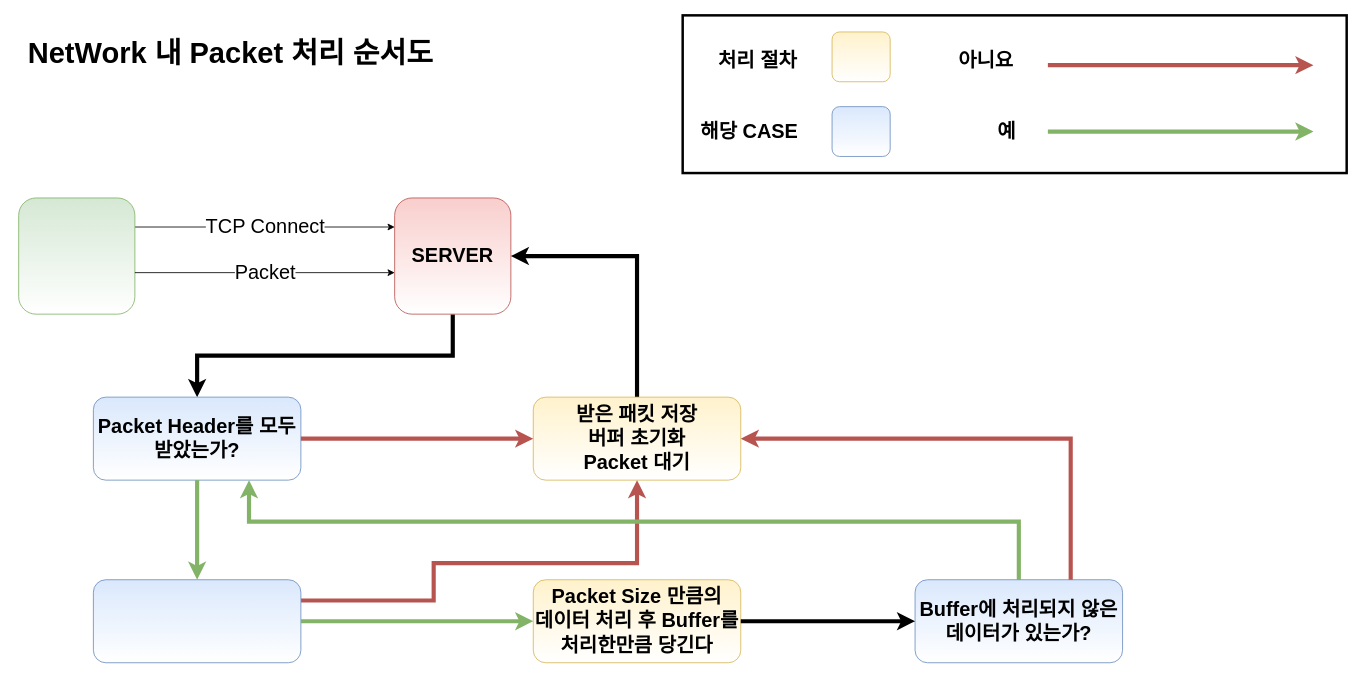
The diagram is 1362 pixels wide and 677 high, and some of its shapes have lost their labels. The shapes that lost their labels are listed below. From the top down, each one's centre as x and y in pixels, then its label:
At (76,255): "CLIENT".
At (197,621): "Packet Size 만큼 데이터가 모두 들어왔는가?".
